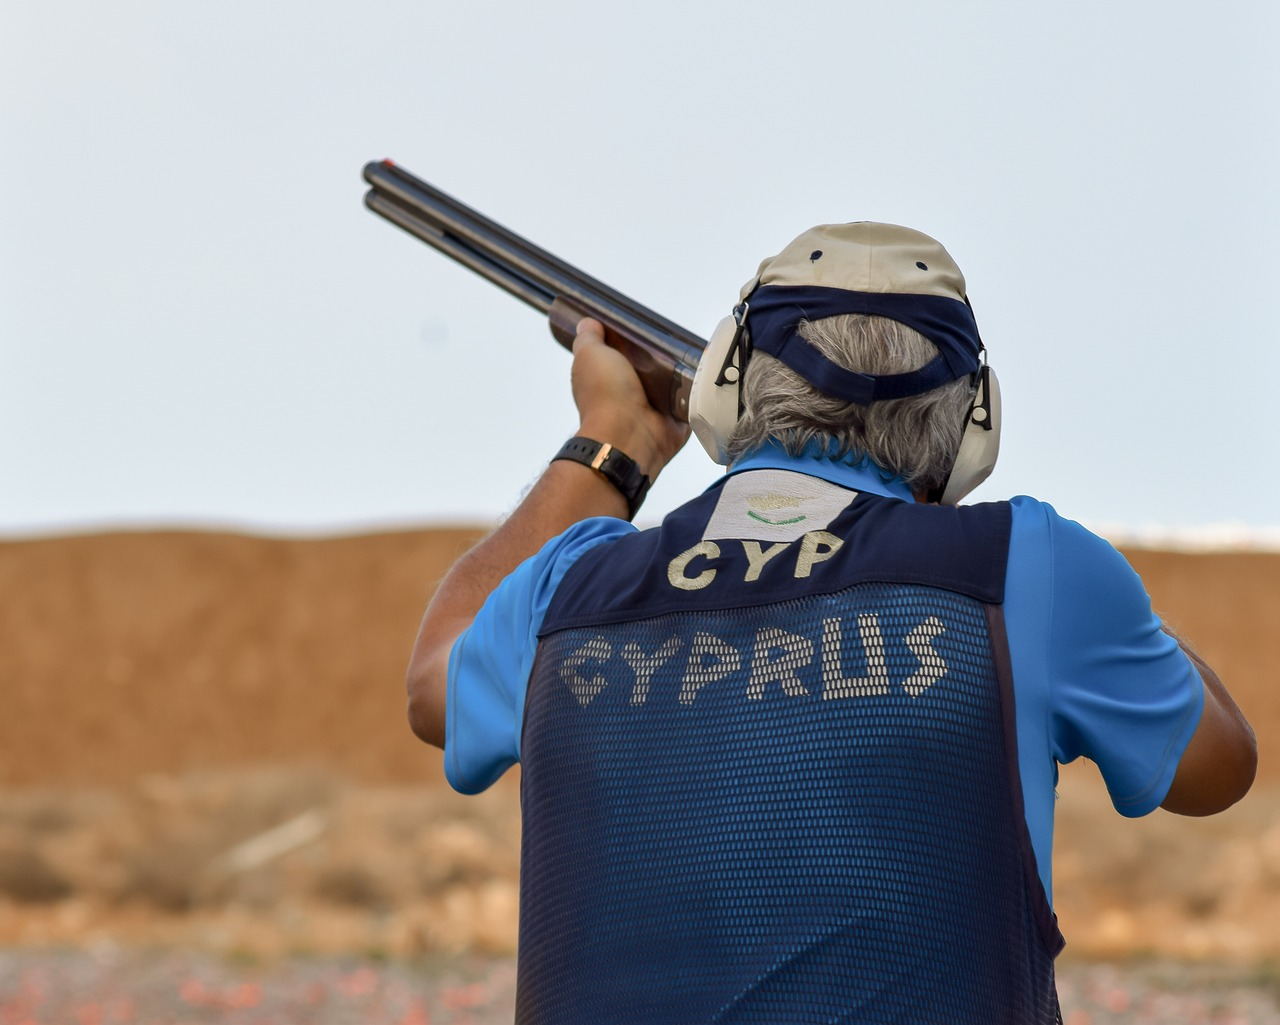gun: (357, 153, 714, 429)
